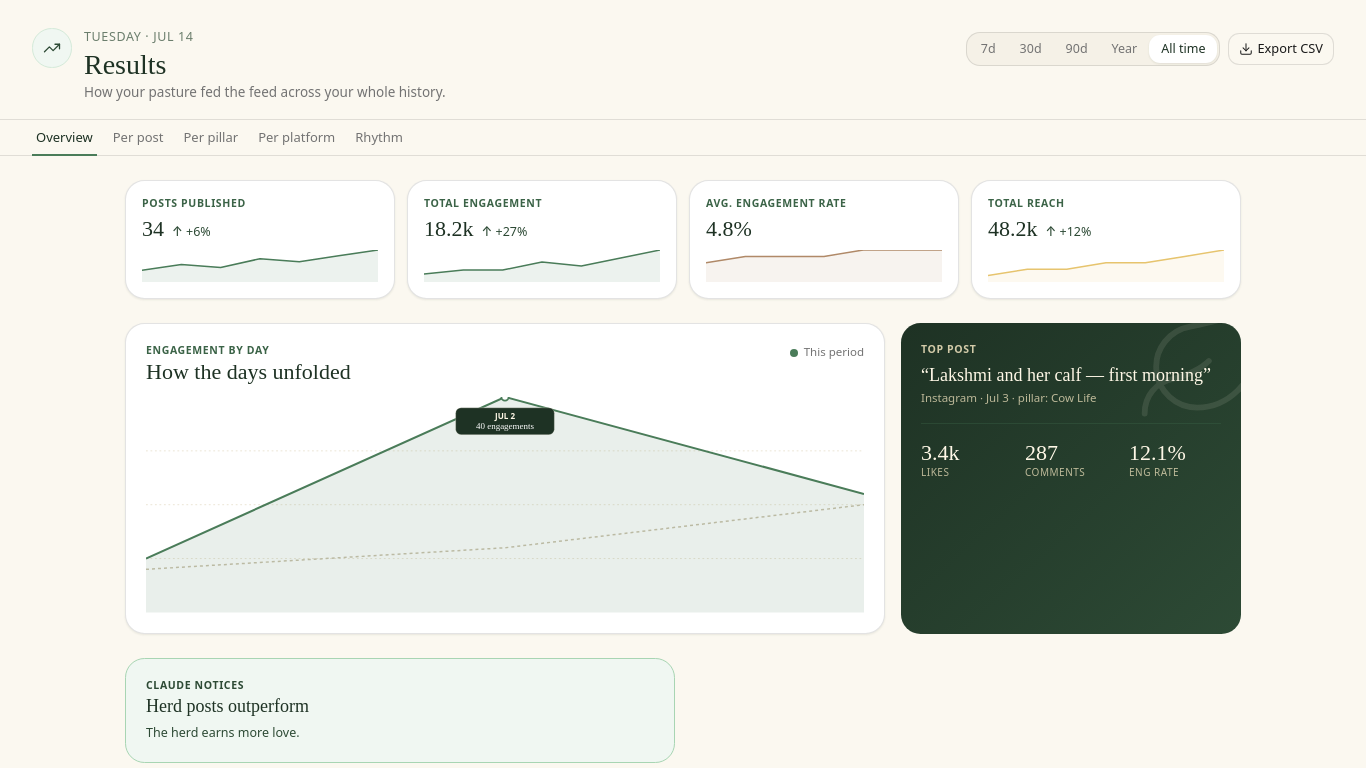
it: AnalyticsPage › keeps the header subtitle honest about the selected range
Expected: the text "Posts published" is shown, left=142, top=196, right=246, bottom=210
Expected: the text "How your pasture fed the feed across your whole history." is shown, left=84, top=82, right=446, bottom=103
Click the radio button labelled "7d": coordinates (988, 49) left=969, top=35, right=1008, bottom=63
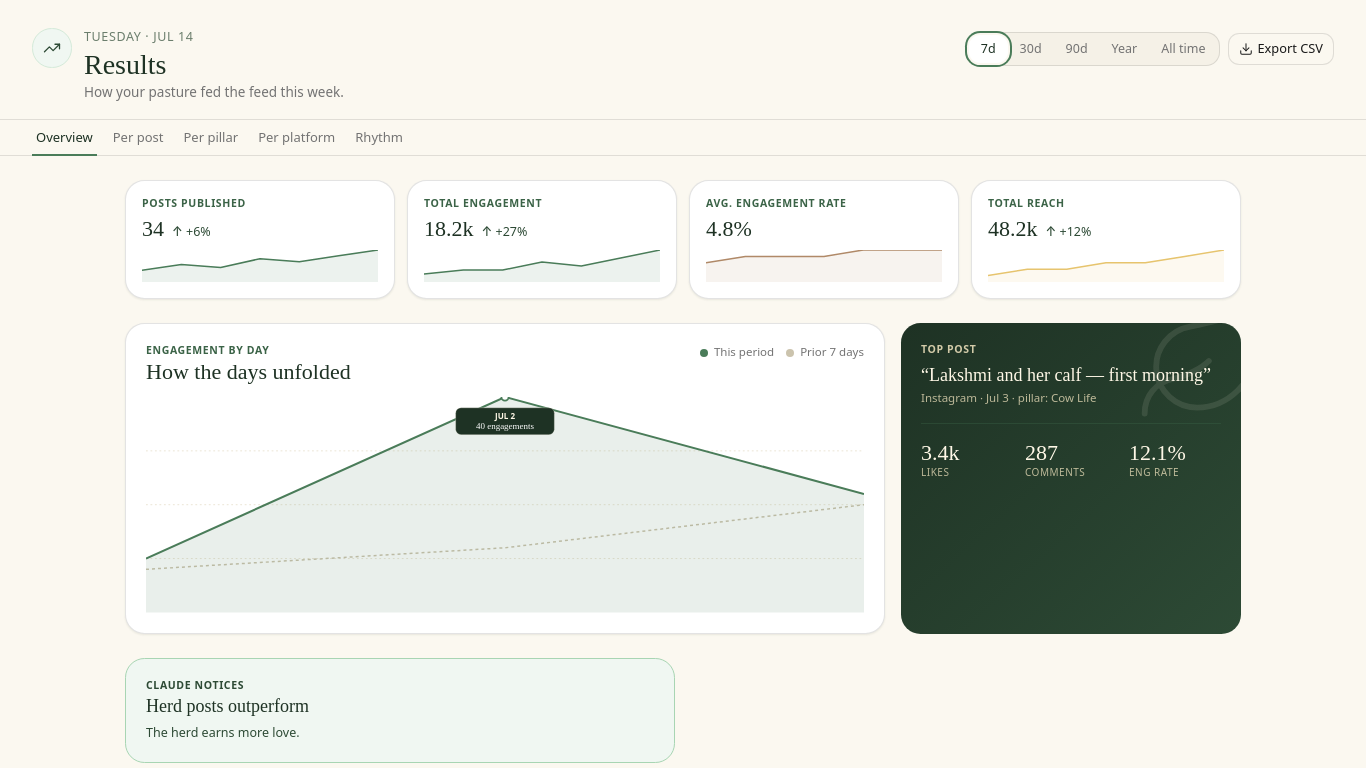
Result: the text "How your pasture fed the feed this week." is shown at left=84, top=82, right=344, bottom=103
Click the radio button labelled "30d": coordinates (1031, 49) left=1008, top=35, right=1054, bottom=63
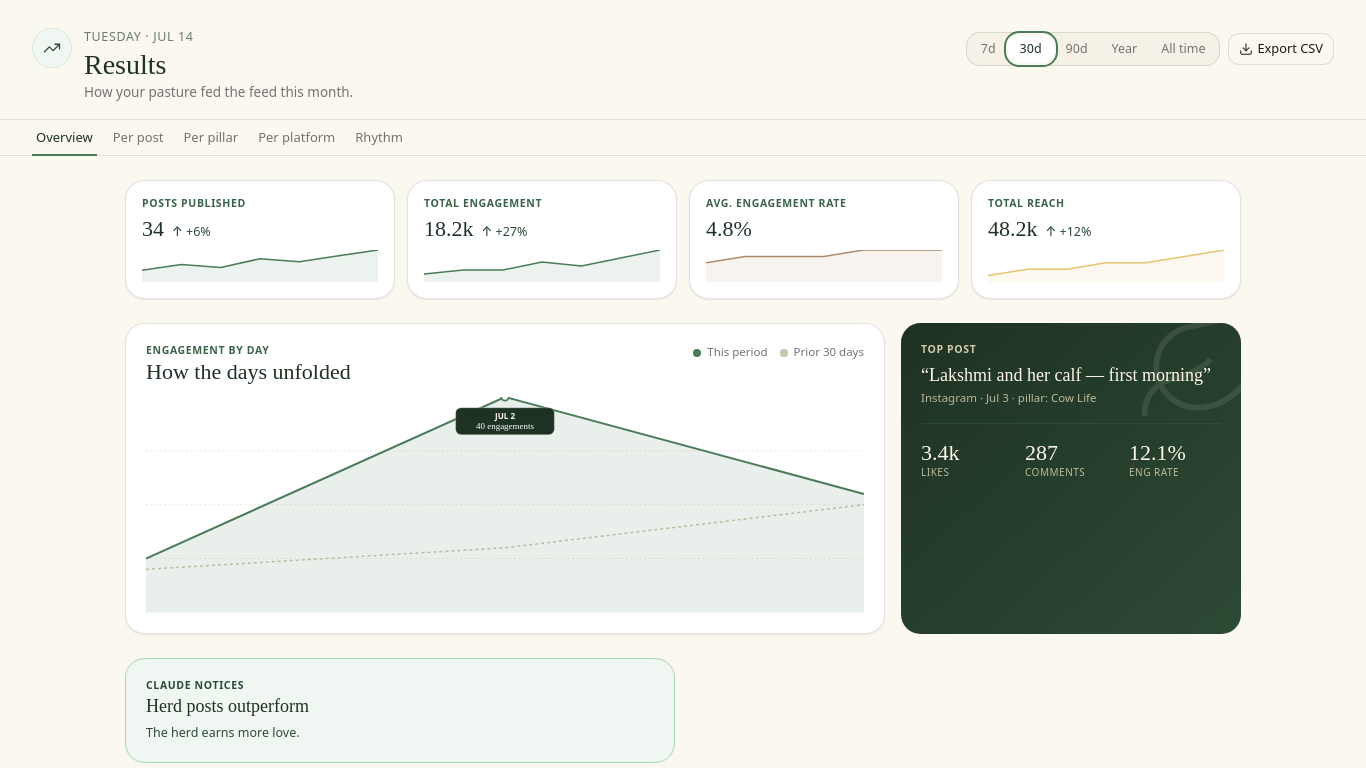
Expected: the text "across your whole history" is not shown
Result: the text "How your pasture fed the feed this month." is shown at left=84, top=82, right=353, bottom=103
